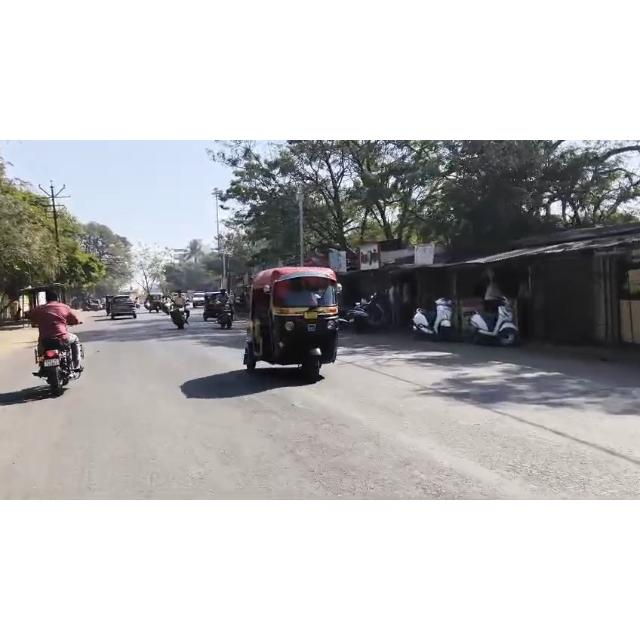auto: (241, 264, 346, 384), (203, 288, 231, 322), (145, 293, 167, 314)
car: (107, 296, 142, 320), (192, 292, 208, 310)
